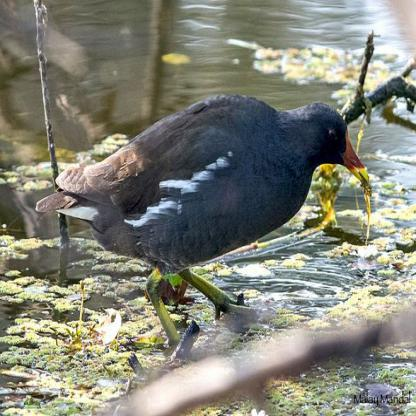Burung: (35, 94, 368, 347)
